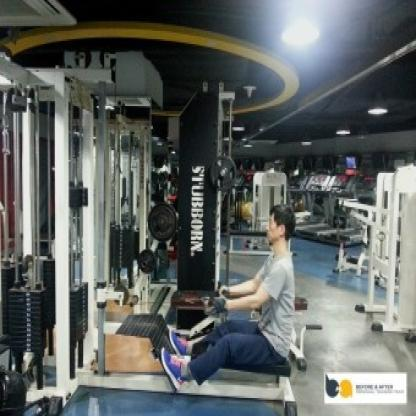Seated Cable Rows: (0, 5, 317, 416)
